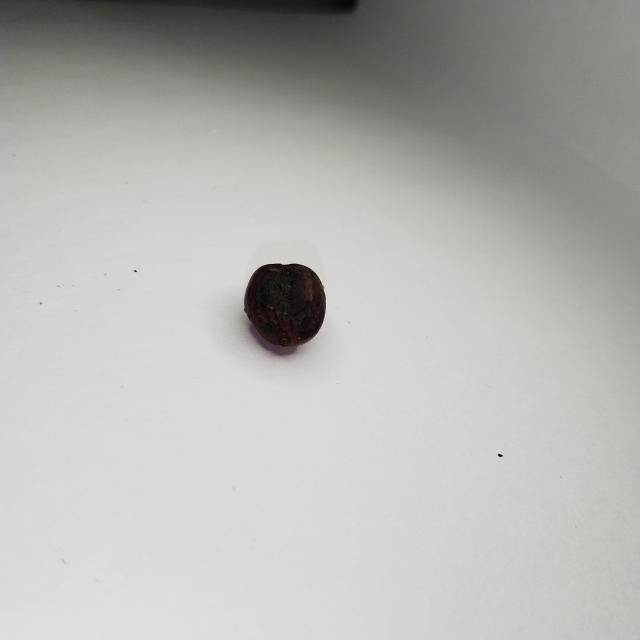Danado: (243, 259, 326, 360)
